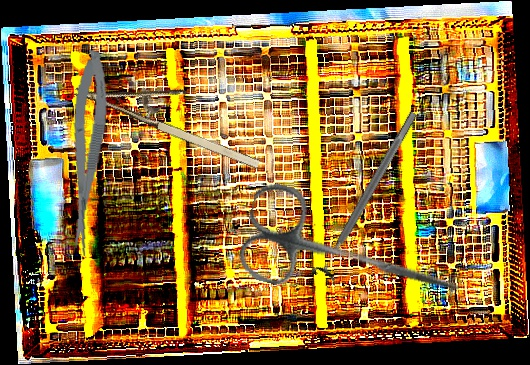Fixation Ring: (309, 106, 428, 286)
Iris Scissors: (234, 179, 473, 331)
Micro Scissor: (58, 48, 114, 257)
Needle Holder: (73, 49, 274, 175)
